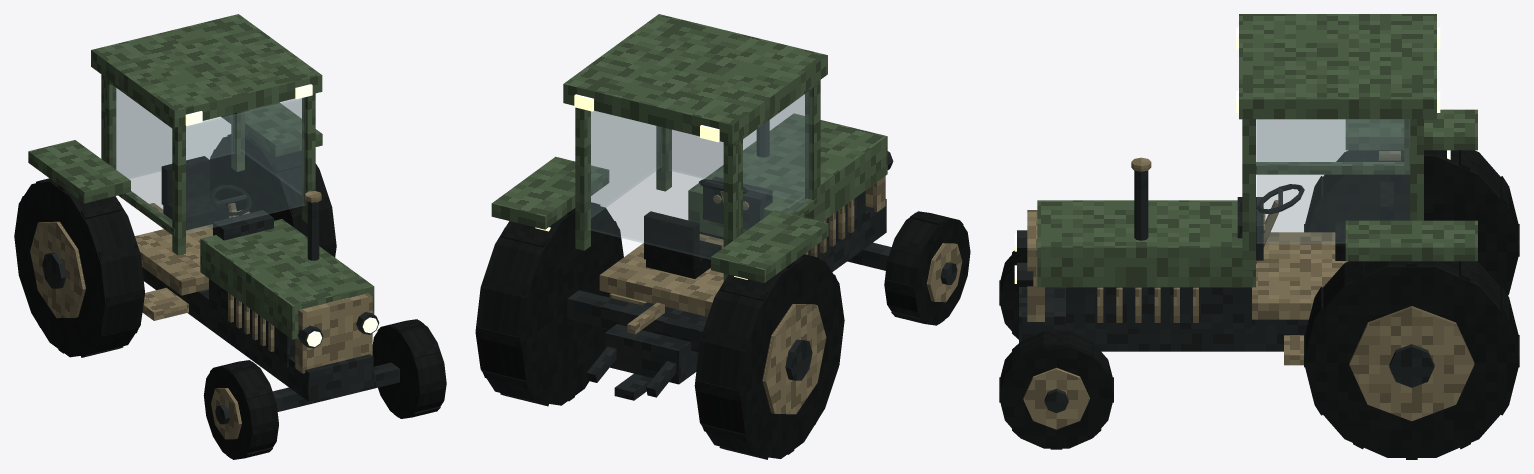
Rendered from wren-utility-1978.glb.
3 views of the same model, side by side, from view 1: azimuth 30°, elevation 25°; view 2: azimuth 150°, elevation 25°; view 3: azimuth 270°, elevation 25° (orthographic). The views are drawn at different scales.
Parts seen in each view (by area): view 1: cab_roof, windscreen, wheel_rl, hood, wheel_rr, door_glass, windscreen.001, chassis, wheel_fr, side_glass, wheel_fl, radiator (+19 smaller); view 2: cab_roof, wheel_rr, wheel_rl, windscreen.001, hood, windscreen, door_glass, wheel_fl, chassis, side_glass, fender, platform (+25 smaller); view 3: wheel_rr, cab_roof, hood, side_glass, wheel_rl, rim_rr, wheel_fr, chassis, engine, door_glass, platform, fender.001 (+13 smaller).
Part boxes in pixels (left/top/right/bottom): cab_roof: left=91, top=14, right=322, bottom=127; windscreen: left=186, top=98, right=304, bottom=233; wheel_rl: left=14, top=180, right=144, bottom=357; hood: left=200, top=219, right=374, bottom=339; wheel_rr: left=210, top=135, right=336, bottom=257; door_glass: left=112, top=85, right=171, bottom=224; windscreen.001: left=117, top=89, right=233, bottom=178; chassis: left=142, top=267, right=373, bottom=401; wheel_fr: left=372, top=319, right=446, bottom=418; side_glass: left=240, top=98, right=301, bottom=194; wheel_fl: left=203, top=360, right=278, bottom=459; radiator: left=295, top=293, right=372, bottom=373; cab_roof: left=563, top=14, right=827, bottom=144; wheel_rr: left=475, top=205, right=623, bottom=405; wheel_rl: left=694, top=256, right=844, bottom=458; windscreen.001: left=587, top=111, right=723, bottom=259; hood: left=688, top=113, right=887, bottom=237; windscreen: left=669, top=95, right=804, bottom=201; door_glass: left=743, top=90, right=811, bottom=232; wheel_fl: left=884, top=211, right=970, bottom=325; chassis: left=604, top=199, right=886, bottom=384; side_glass: left=591, top=111, right=661, bottom=217; fender: left=711, top=210, right=828, bottom=283; platform: left=599, top=234, right=723, bottom=316; wheel_rr: left=1304, top=261, right=1519, bottom=457; cab_roof: left=1239, top=14, right=1436, bottom=119; hood: left=1037, top=200, right=1255, bottom=287; side_glass: left=1257, top=119, right=1409, bottom=243; wheel_rl: left=1305, top=150, right=1519, bottom=294; rim_rr: left=1349, top=306, right=1474, bottom=421; wheel_fr: left=999, top=331, right=1113, bottom=448; chassis: left=1019, top=287, right=1308, bottom=351; engine: left=1066, top=287, right=1251, bottom=328; door_glass: left=1256, top=119, right=1403, bottom=163; platform: left=1252, top=232, right=1347, bottom=319; fender.001: left=1345, top=220, right=1477, bottom=261.
Size of the model in its own units: 2.48 by 2.72 by 3.81.
Materials: 6 (4 with a texture image).
